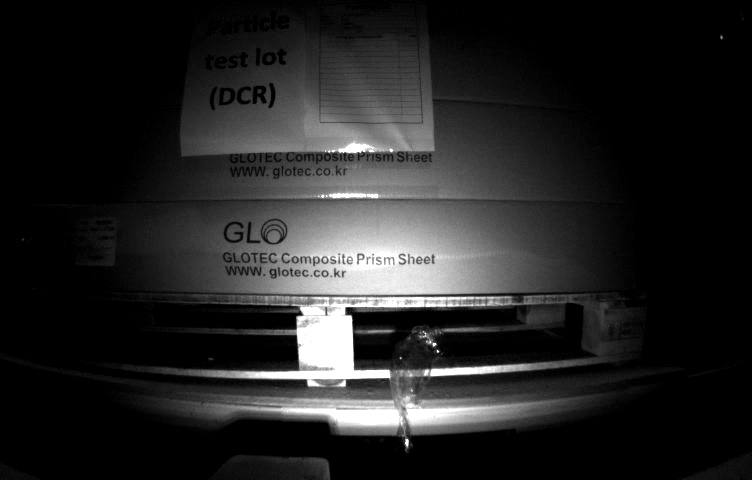True Barcode: (69, 221, 118, 268)
